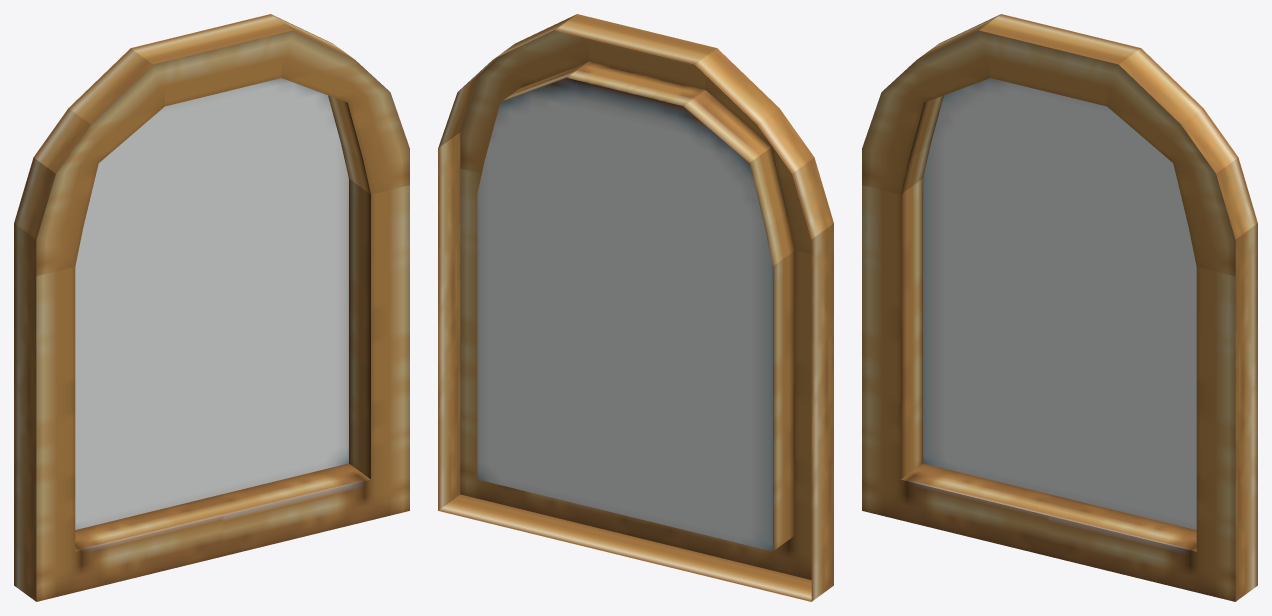
The model's file is Inside_Poly_Window_07.obj.
The picture shows the model from 3 angles, left to right: view 1: azimuth 30°, elevation 25°; view 2: azimuth 150°, elevation 25°; view 3: azimuth 330°, elevation 25°; orthographic projection.
Parts seen in each view (by area): view 1: Cube.001_Cube; view 2: Cube.001_Cube; view 3: Cube.001_Cube.
Part boxes in pixels (<box>): Cube.001_Cube: <box>14,14,409,601</box>; Cube.001_Cube: <box>438,14,833,601</box>; Cube.001_Cube: <box>862,14,1257,601</box>.
Size of the model in its own units: 0.96 by 1.25 by 0.1.
Materials: 1 (1 with a texture image).
